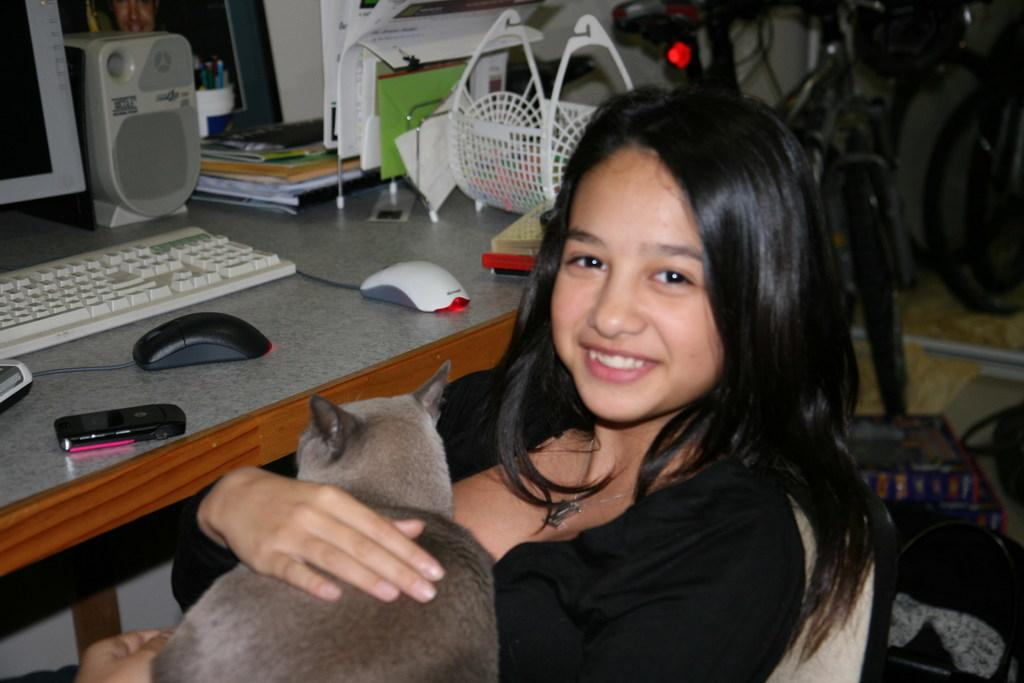Computer-keyboard: (0, 227, 296, 366)
Computer-mouse: (129, 312, 274, 371), (356, 257, 472, 315)
